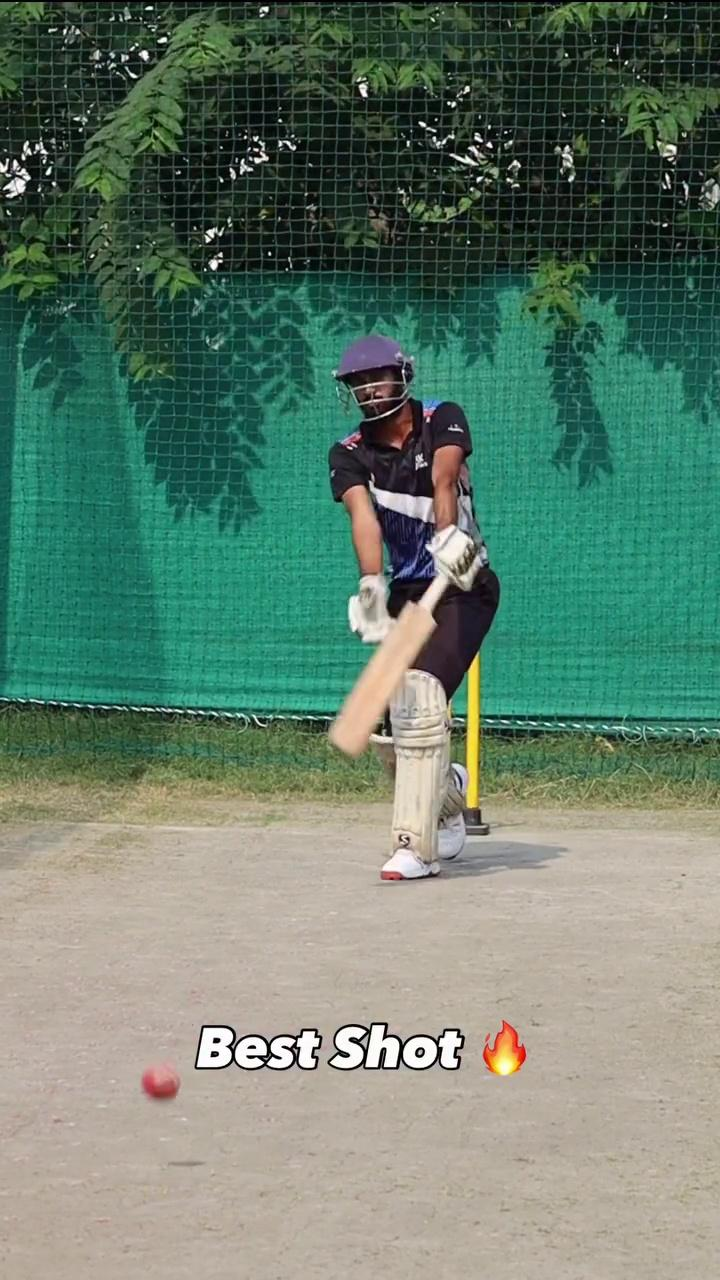bat: (321, 599, 442, 762)
